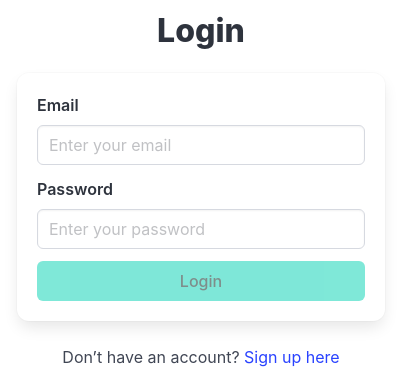
Test: LoginPage Component › enables the login button when inputs are filled
The image size is (403, 384).
Type "test@example.com" into the field labelled "Email".
click(201, 145); type("test@example.com")  # box 37,125 -> 365,165
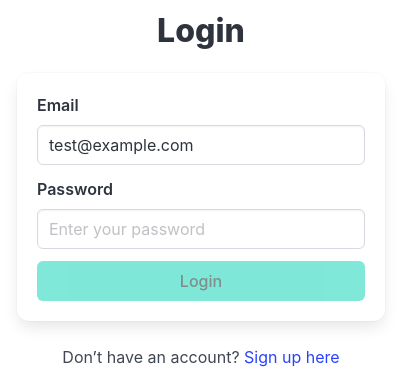
Type "password123" into the password field labelled "Password".
click(201, 229); type("password123")  # box 37,209 -> 365,249
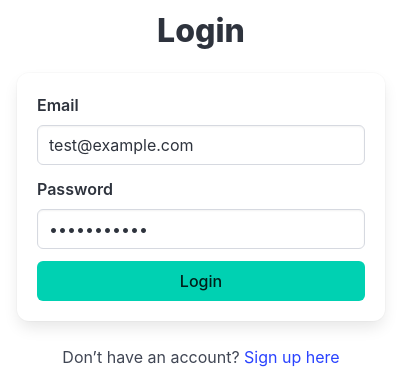
Expected: the button "Login" is enabled, 37,261 -> 365,301
